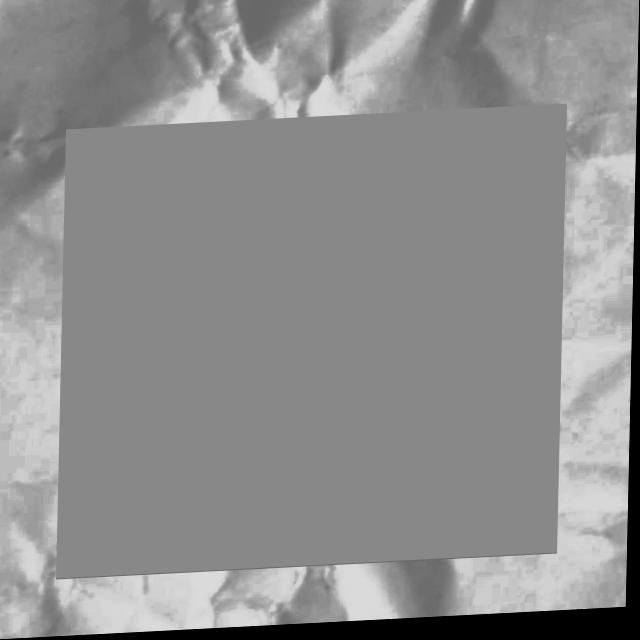qr_code: (59, 110, 568, 579)
